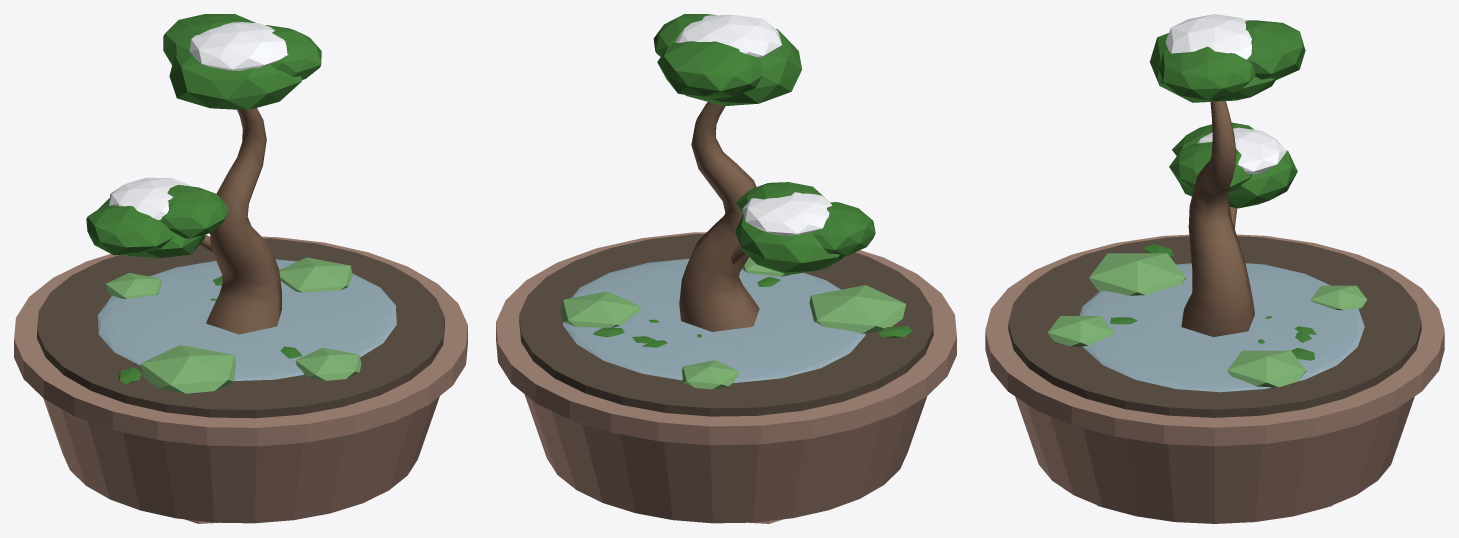
The model's file is bonsai_2_young.glb.
3 views of the same model, side by side, from view 1: azimuth 30°, elevation 25°; view 2: azimuth 150°, elevation 25°; view 3: azimuth 270°, elevation 25° (orthographic).
Parts seen in each view (by area): view 1: pot, soil, puddle, foliage, trunk, moss, snow, fallen; view 2: pot, soil, puddle, foliage, trunk, moss, snow, fallen; view 3: pot, soil, puddle, foliage, trunk, moss, snow, fallen.
Part boxes in pixels (left/top/right/bottom): pot: left=14, top=236, right=467, bottom=523; soil: left=37, top=238, right=444, bottom=418; puddle: left=97, top=259, right=396, bottom=380; foliage: left=86, top=14, right=321, bottom=258; trunk: left=200, top=108, right=281, bottom=334; moss: left=106, top=257, right=361, bottom=393; snow: left=109, top=22, right=287, bottom=220; fallen: left=118, top=269, right=301, bottom=384; pot: left=496, top=232, right=956, bottom=523; soil: left=519, top=234, right=933, bottom=416; puddle: left=563, top=258, right=865, bottom=382; foliage: left=653, top=14, right=875, bottom=274; trunk: left=679, top=102, right=759, bottom=331; moss: left=560, top=257, right=905, bottom=389; snow: left=675, top=15, right=831, bottom=235; fallen: left=593, top=276, right=913, bottom=347; pot: left=985, top=234, right=1444, bottom=523; soil: left=1008, top=236, right=1421, bottom=417; puddle: left=1079, top=263, right=1364, bottom=392; foliage: left=1150, top=20, right=1305, bottom=208; trunk: left=1181, top=101, right=1254, bottom=337; moss: left=1047, top=253, right=1367, bottom=387; snow: left=1165, top=14, right=1286, bottom=174; fallen: left=1110, top=244, right=1316, bottom=360.
Bounding box in the file's own units: 0.178 × 0.1836 × 0.178.
